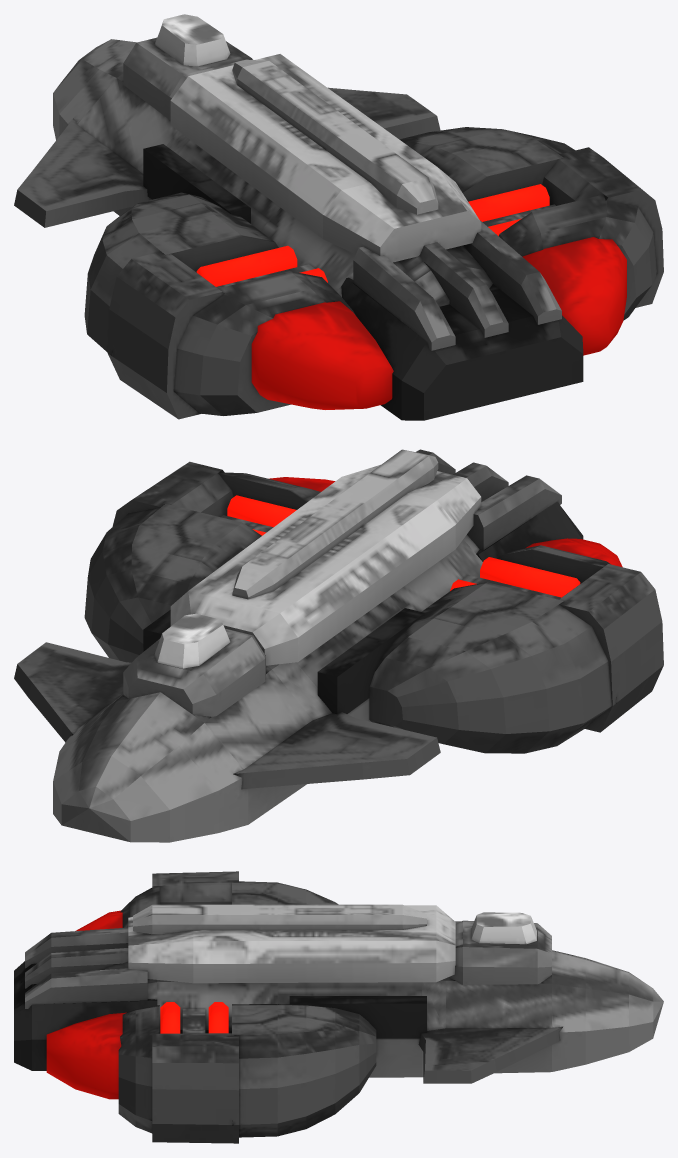
Rendered from ship-silver-ship.glb.
The picture shows the model from 3 angles, top to bottom: view 1: azimuth 30°, elevation 25°; view 2: azimuth 150°, elevation 25°; view 3: azimuth 270°, elevation 25°; orthographic projection. The views are drawn at different scales.
Parts seen in each view (by area): view 1: ship-silver-ship; view 2: ship-silver-ship; view 3: ship-silver-ship.
Part boxes in pixels (bbox=[...]): ship-silver-ship: bbox=[14, 14, 663, 420]; ship-silver-ship: bbox=[14, 449, 663, 842]; ship-silver-ship: bbox=[14, 871, 663, 1143].
Bounding box in the file's own units: 1.58 × 0.5417 × 2.25.
9 materials, 9 textured.
